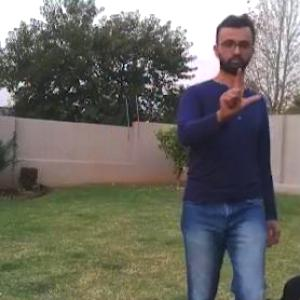land_hand: (217, 54, 265, 115)
